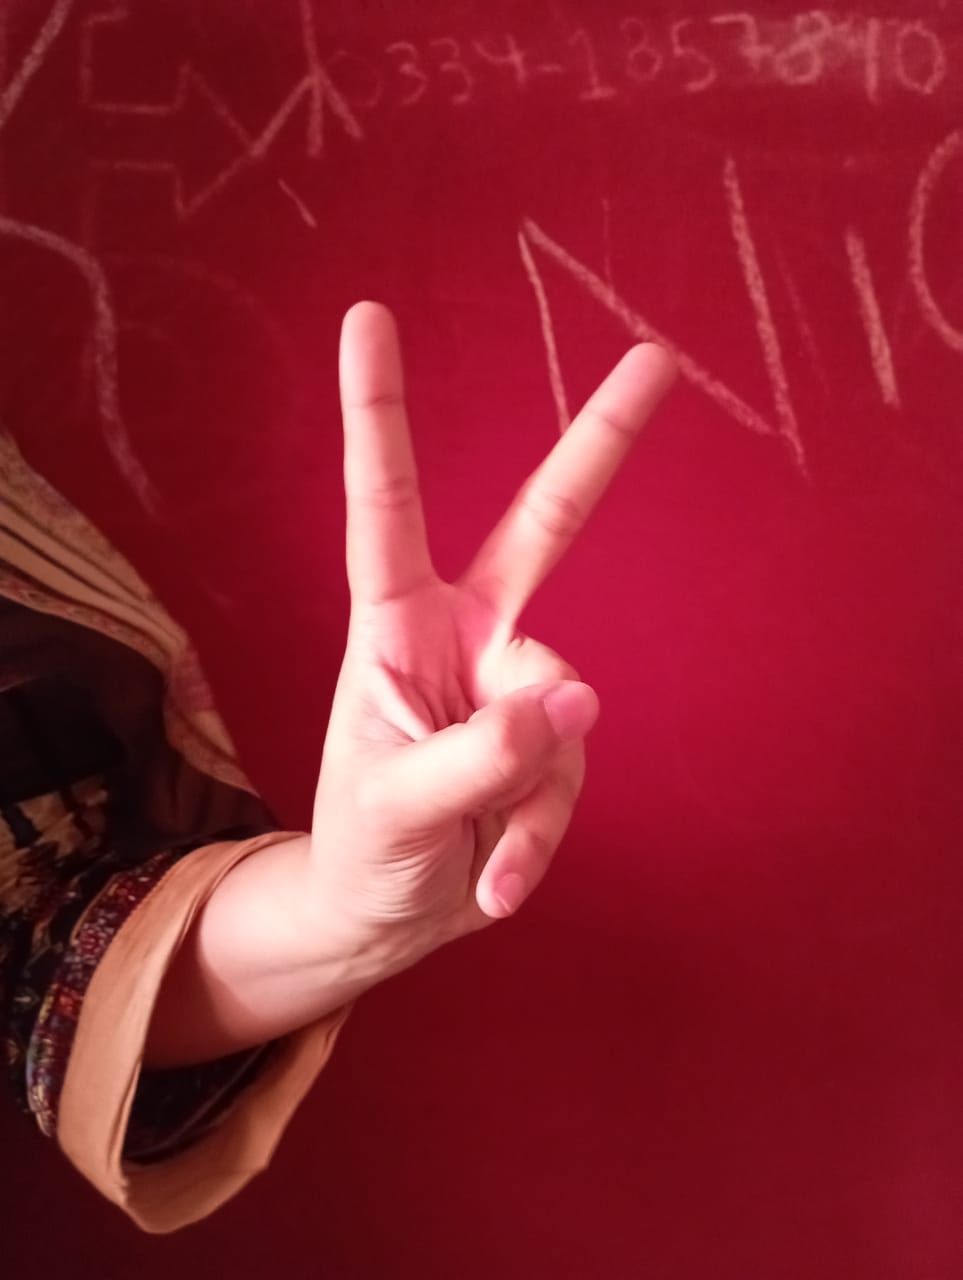Peace: (289, 282, 697, 1000)
